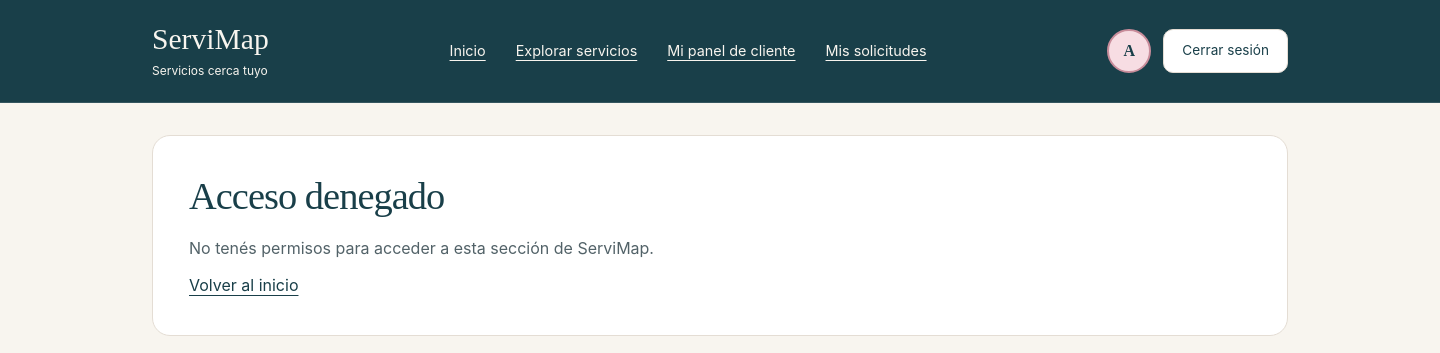
Test case: Header con sesión › informa el error de cierre ({}) y vuelve a habilitar el botón
Click the button "Cerrar sesión" at point(1226, 51), box [1163,29,1288,73]
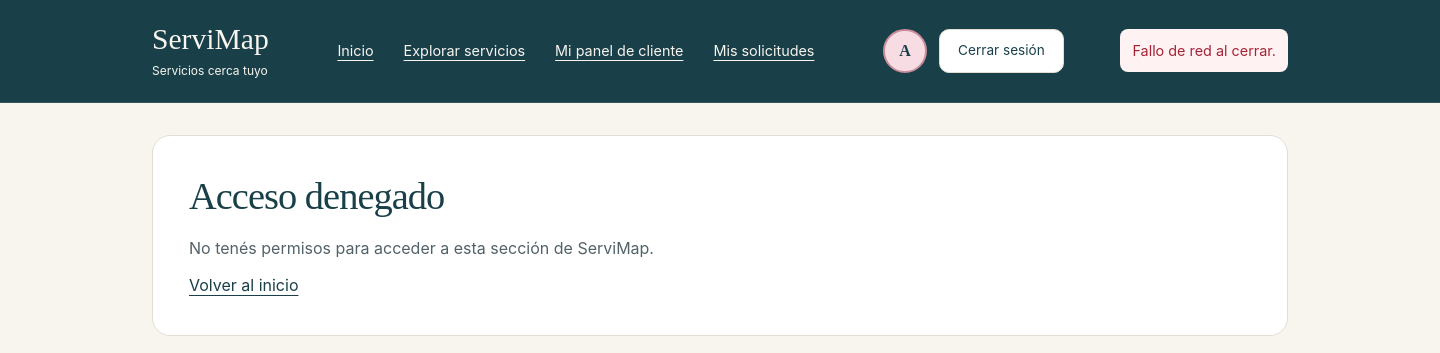
Expected: the button "Cerrar sesión" is enabled, [939,29,1064,73]
Now the message reads "Fallo de red al cerrar.", box [1132,42,1276,59]
